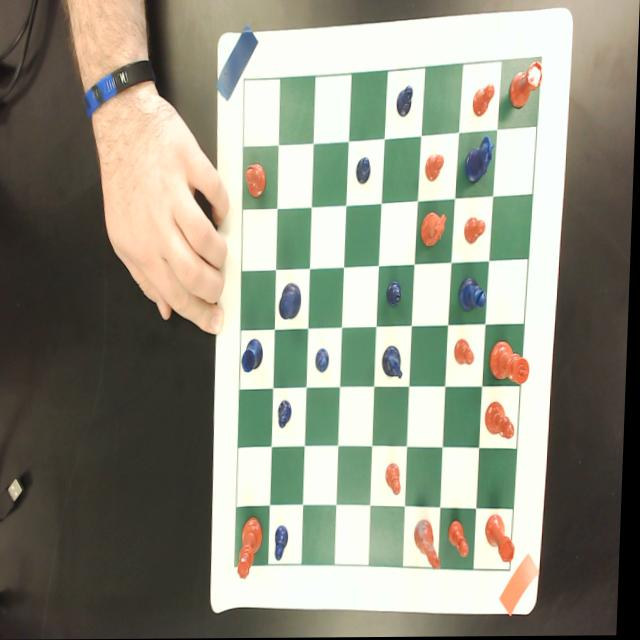B: (460, 275, 490, 315)
K: (281, 284, 304, 322)
N: (464, 131, 498, 189), (381, 343, 407, 383)
P: (395, 85, 414, 119), (278, 525, 293, 562), (388, 280, 405, 308), (280, 400, 295, 430), (357, 157, 372, 185), (318, 348, 332, 373)
R: (244, 338, 266, 373)
b: (488, 401, 519, 442), (245, 161, 268, 199)
cb: (239, 58, 542, 571)
k: (491, 343, 533, 386)
n: (417, 515, 447, 572), (421, 210, 448, 251)
p: (452, 519, 475, 559), (473, 83, 495, 119), (387, 463, 406, 497), (465, 218, 488, 246), (456, 339, 478, 367), (426, 153, 446, 183)
q: (242, 516, 267, 580)
r: (509, 58, 544, 110), (488, 515, 520, 566)
